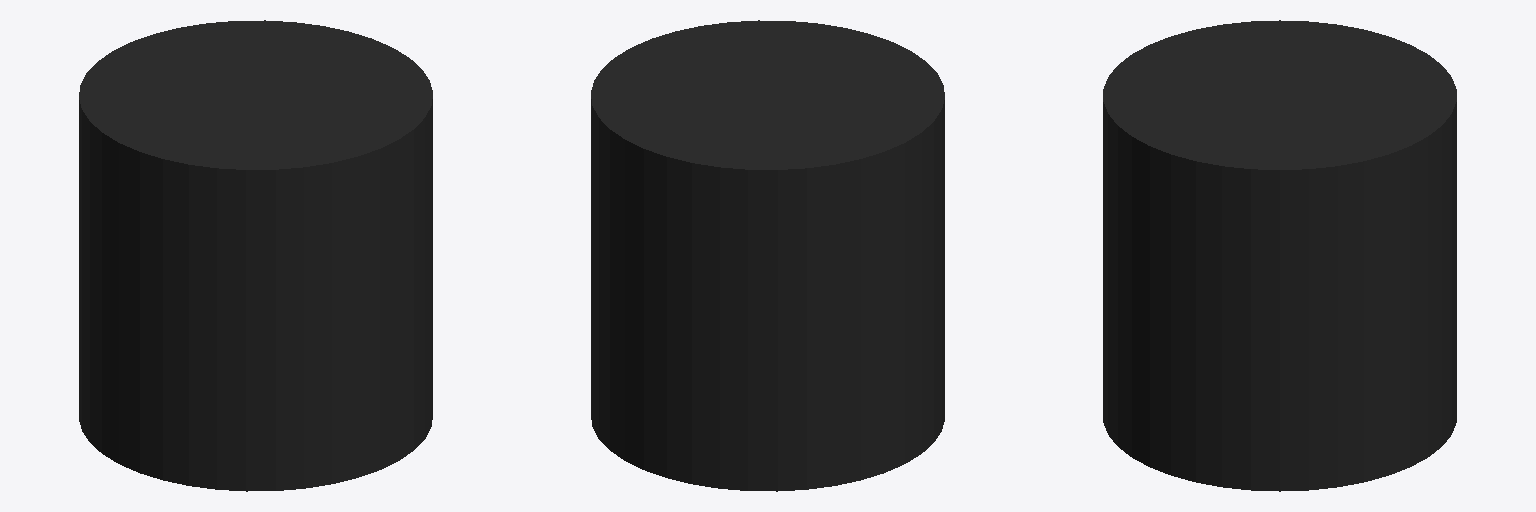
The robot description file, URDF, robot "suction-head.urdf":
<?xml version="0.0" ?>
<robot name="suction-head.urdf">
  <link name="headLink">
    <contact>
      <lateral_friction value="1.0"/>
      <rolling_friction value="0.0001"/>
      <inertia_scaling value="3.0"/>
    </contact>
    <inertial>
      <origin rpy="0 0 0" xyz="0 0 0"/>
       <mass value=".1"/>
       <inertia ixx="1" ixy="0" ixz="0" iyy="1" iyz="0" izz="1"/>
    </inertial>
    <visual>
      <origin rpy="0 0 0" xyz="0 0 0"/>
      <geometry>
        <mesh filename="head.obj" scale="0.001 0.001 0.001"/>
      </geometry>
      <material name="darkgrey">
        <color rgba="0.2 0.2 0.2 1"/>
      </material>
    </visual>
    <collision>
      <origin rpy="0 0 0" xyz="0 0 0"/>
      <geometry>
        <mesh filename="head.obj" scale="0.001 0.001 0.001"/>
      </geometry>
    </collision>
  </link>

  <joint name="tipJoint" type="fixed">
    <parent link="headLink"/>
    <child link="tipLink"/>
    <origin rpy="0.0 0.0 0.0" xyz="0.0 0.0 0.029"/>
    <axis xyz="0 0 1"/>
    <limit effort="150.0" lower="-6.28318530718" upper="6.28318530718" velocity="3.15"/>
    <dynamics damping="10.0" friction="0.0"/>
  </joint>

  <link name="tipLink">
    <contact>
      <lateral_friction value="1.0"/>
      <rolling_friction value="0.0001"/>
      <inertia_scaling value="3.0"/>
      <restitution value="0.2"/>
    </contact>
    <inertial>
      <origin rpy="0 0 0" xyz="0 0 0"/>
       <mass value=".1"/>
       <inertia ixx="1" ixy="0" ixz="0" iyy="1" iyz="0" izz="1"/>
    </inertial>
    <visual>
      <origin rpy="0 0 0" xyz="0 0 0"/>
      <geometry>
        <mesh filename="tip.obj" scale="0.001 0.001 0.001"/>
      </geometry>
      <material name="blue">
        <color rgba="0.18039216, 0.50588235, 0.77254902 1"/>
      </material>
    </visual>
    <collision>
      <origin rpy="0 0 0" xyz="0 0 0"/>
      <!-- <geometry>
        <mesh filename="tip.obj" scale="0.001 0.001 0.001"/>
      </geometry> -->
      <geometry>
        <cylinder length="0.028" radius="0.001"/>
      </geometry>
    </collision>
  </link>

  <!-- <link name="asdfLink">
    <contact>
      <lateral_friction value="1.0"/>
      <rolling_friction value="0.0001"/>
      <inertia_scaling value="3.0"/>
    </contact>
    <inertial>
      <origin rpy="0 0 0" xyz="0 0 0"/>
       <mass value=".1"/>
       <inertia ixx="1" ixy="0" ixz="0" iyy="1" iyz="0" izz="1"/>
    </inertial>
    <visual>
      <origin rpy="0 0 0" xyz="0 0 0"/>
      <geometry>
        <cylinder length="0.028" radius="0.001"/>
      </geometry>
    </visual>
  </link>

  <joint name="asdfoint" type="fixed">
    <parent link="tipLink"/>
    <child link="asdfLink"/>
    <origin rpy="0.0 0.0 0.0" xyz="0.0 0.0 0.0"/>
    <axis xyz="0 0 1"/>
    <limit effort="150.0" lower="-6.28318530718" upper="6.28318530718" velocity="3.15"/>
    <dynamics damping="10.0" friction="0.0"/>
  </joint> -->


</robot>

--- Render facts (derived) ---
3 views of the same robot in one strip: view 1: azimuth 30°, elevation 25°; view 2: azimuth 150°, elevation 25°; view 3: azimuth 270°, elevation 25° (orthographic).
Model suction-head.urdf with 2 links and 1 joints (1 fixed), rooted at headLink, posed all joints at 0.
Links seen in each view (by area): view 1: headLink; view 2: headLink; view 3: headLink.
Link boxes in pixels (bbox=[...]): headLink: bbox=[79, 20, 432, 491]; headLink: bbox=[591, 20, 944, 491]; headLink: bbox=[1103, 20, 1456, 491].
Bounding box of the posed robot: 0.015 × 0.0149 × 0.015 m (x, y, z).
1 mesh visuals loaded from 2 distinct referenced files (1 OBJ); not drawn: 1 (reference not matched to a file when rendering).